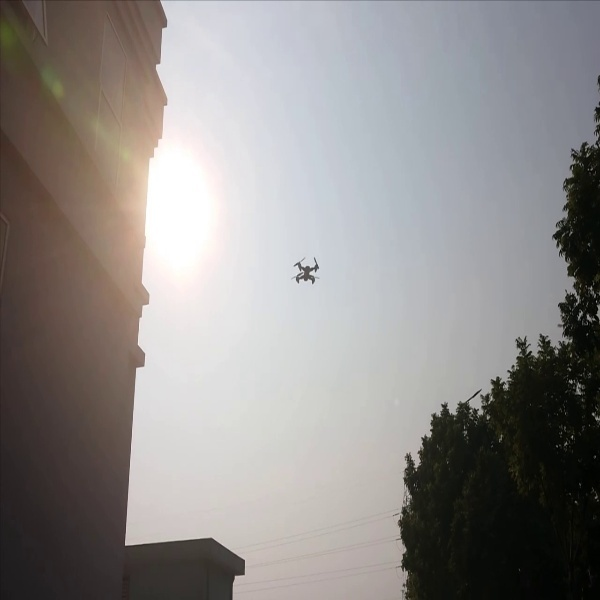drone: (287, 251, 326, 289)
